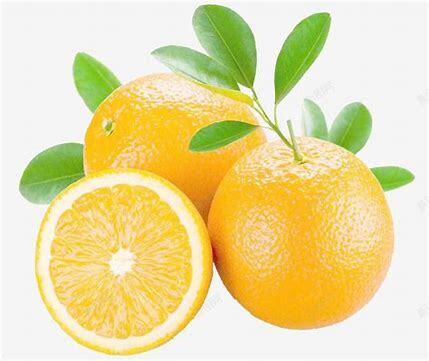orange: (210, 134, 394, 331), (84, 72, 266, 249)
